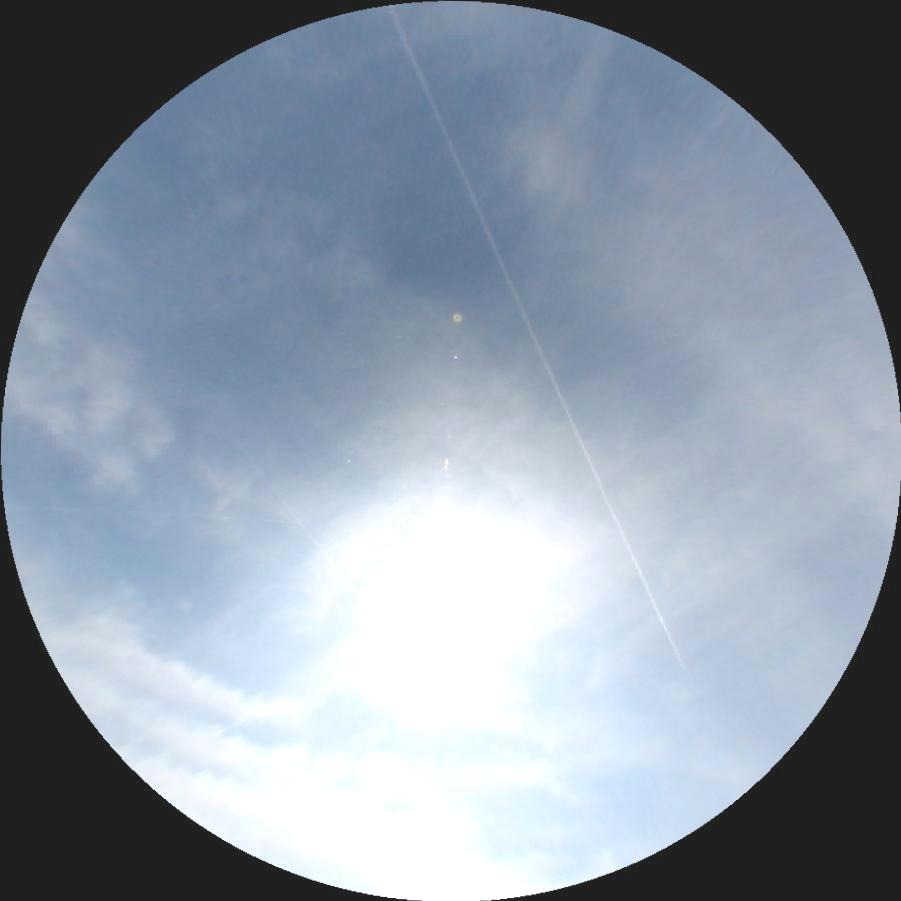contrail young: (385, 0, 686, 672), (227, 436, 457, 715), (279, 654, 399, 708)
sun: (383, 572, 489, 687)
